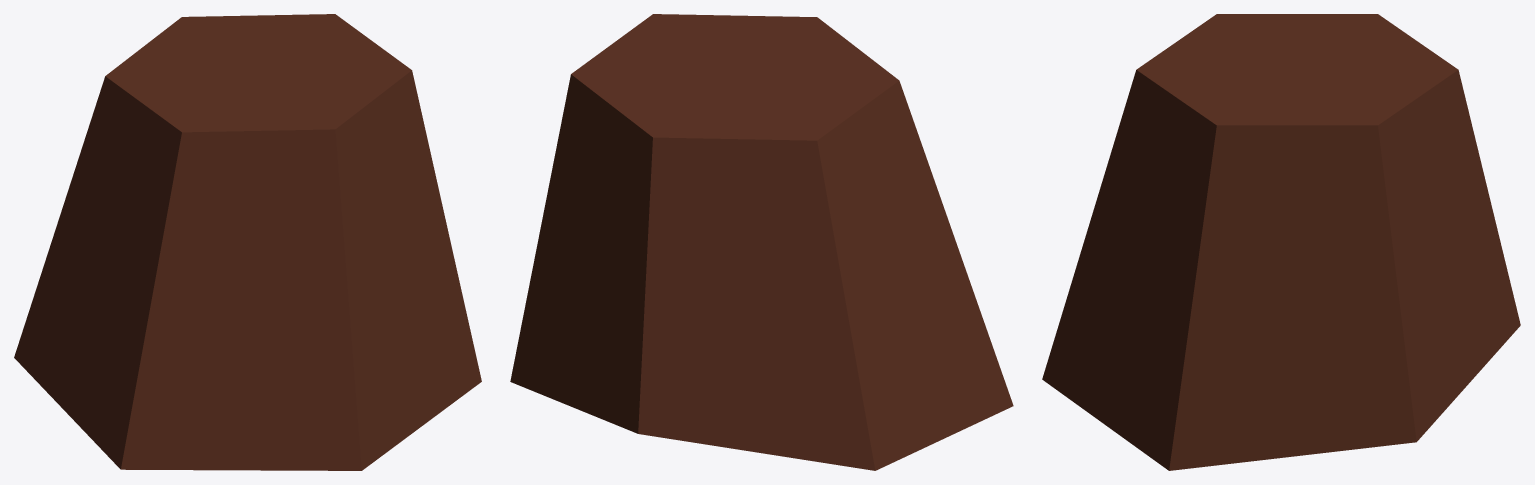
Rendered from tree-stub.glb.
3 renders of one model, left to right at view 1: azimuth 30°, elevation 25°; view 2: azimuth 150°, elevation 25°; view 3: azimuth 270°, elevation 25°, orthographic. The views are drawn at different scales.
Parts seen in each view (by area): view 1: TreeStub; view 2: TreeStub; view 3: TreeStub.
Boxes of the visible parts, box(x1,y1,x2,y2) form: TreeStub: box(14, 14, 481, 470); TreeStub: box(510, 14, 1013, 470); TreeStub: box(1042, 14, 1520, 470).
Bounding box in the file's own units: 0.6753 × 0.549 × 0.7389.
